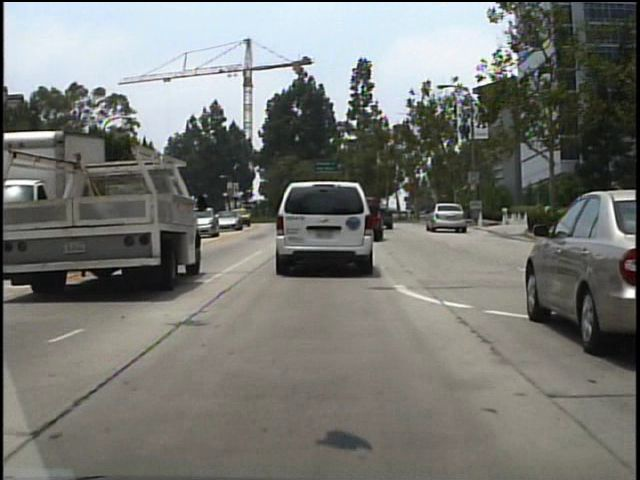person: (409, 196, 422, 225)
